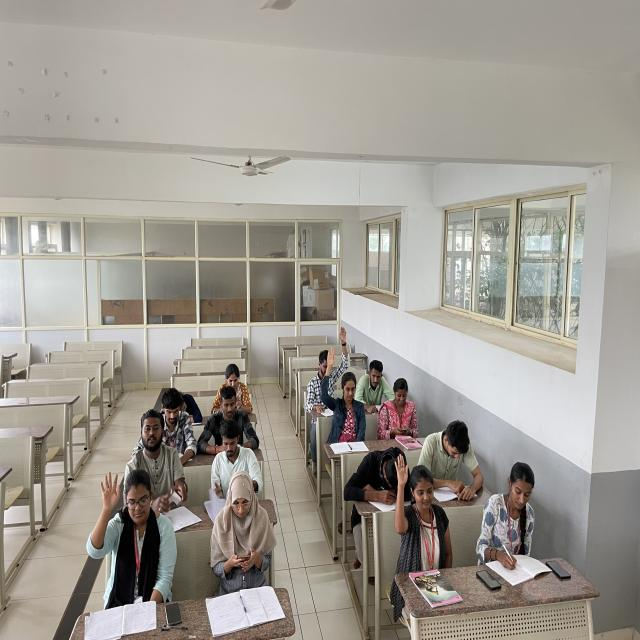Hand Rising: (86, 470, 176, 604), (390, 452, 454, 576), (316, 346, 366, 438), (307, 326, 349, 398)
Reading: (419, 413, 479, 498), (203, 420, 254, 504)
Sleeping: (337, 438, 413, 516)
Using Phone: (201, 467, 284, 601), (123, 404, 187, 511), (199, 384, 264, 462), (376, 378, 422, 440), (214, 363, 253, 412)
Writing: (477, 455, 537, 584), (356, 359, 394, 413)
